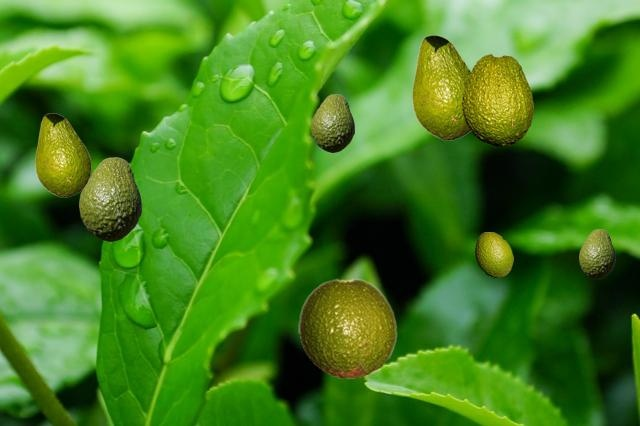avocado: (298, 278, 397, 378), (462, 54, 532, 145), (412, 35, 470, 139), (79, 157, 140, 240), (35, 113, 90, 196), (311, 94, 353, 151), (579, 229, 614, 278), (475, 232, 512, 276)
